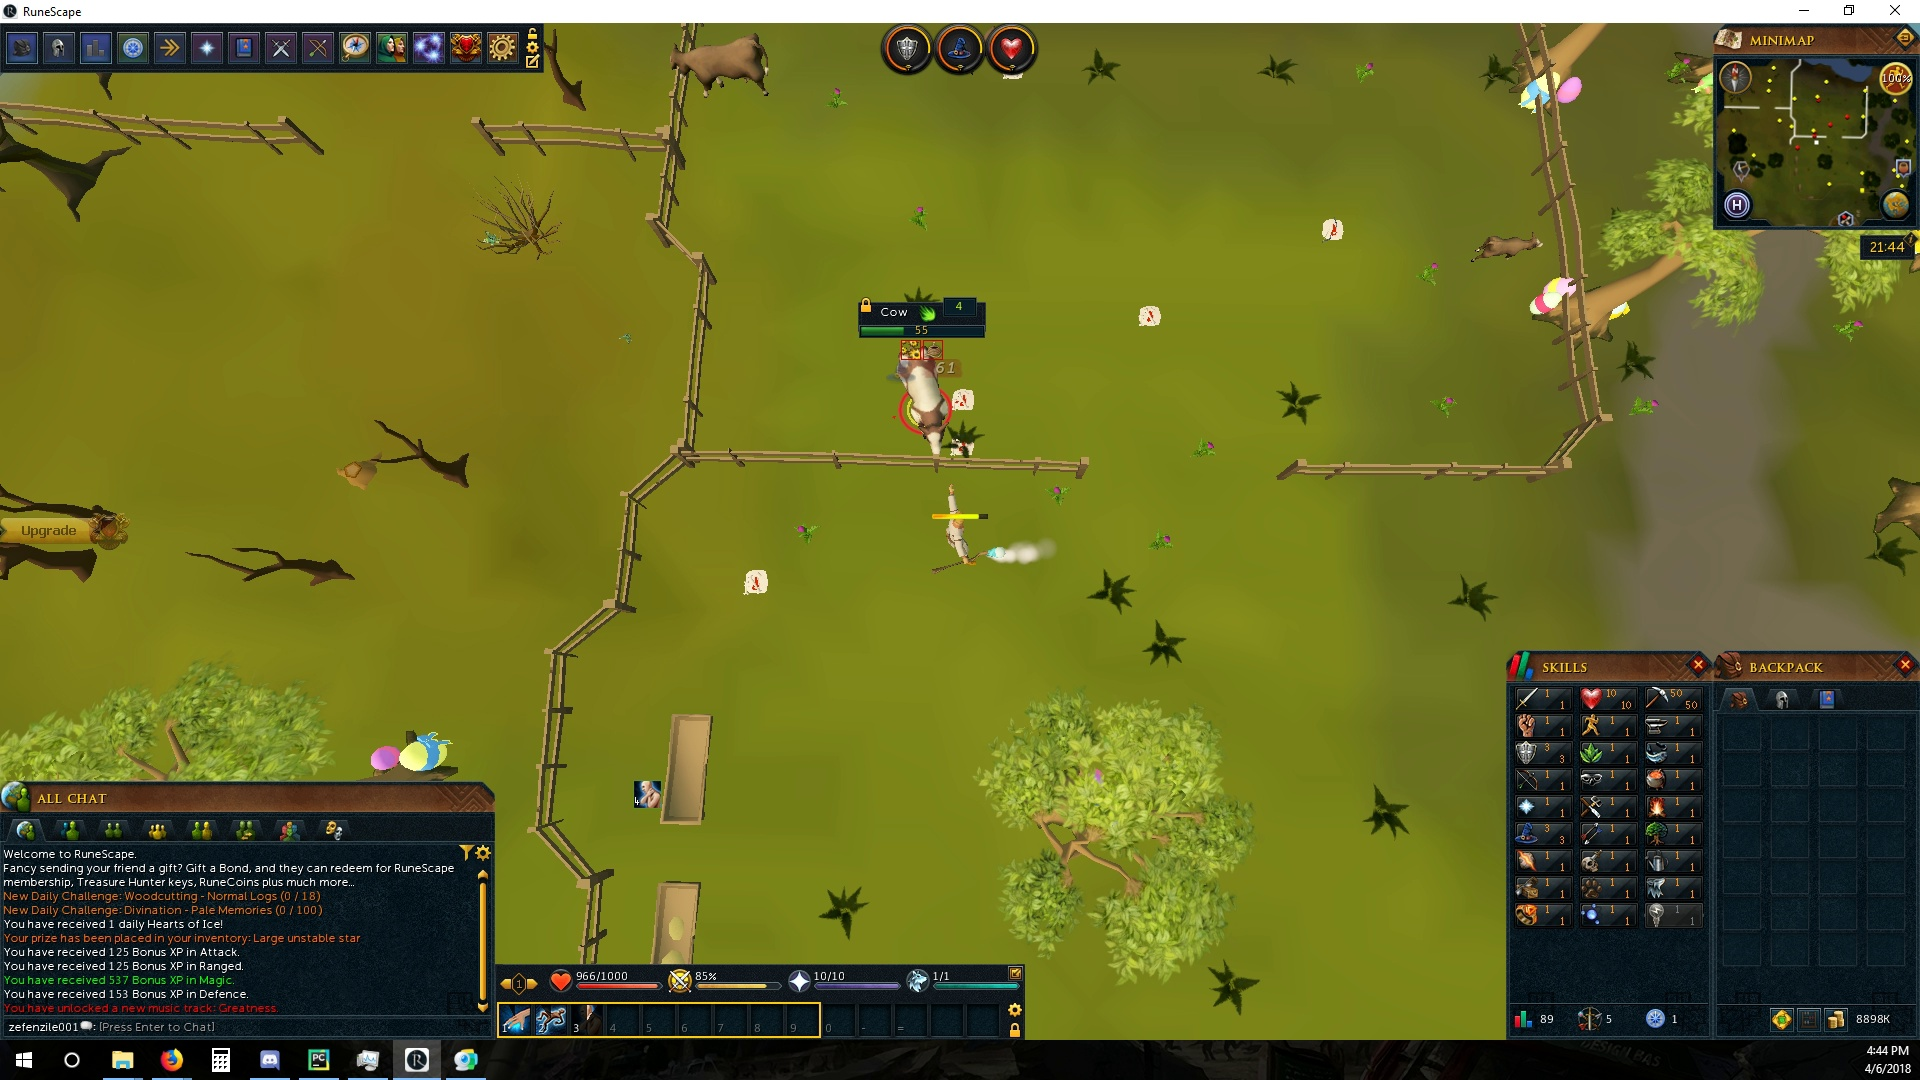calf: (1468, 231, 1549, 264)
cow: (665, 32, 775, 100), (890, 349, 953, 458)
cow_drop: (740, 564, 771, 597), (1317, 212, 1345, 240), (947, 386, 976, 410), (1137, 302, 1159, 328)
